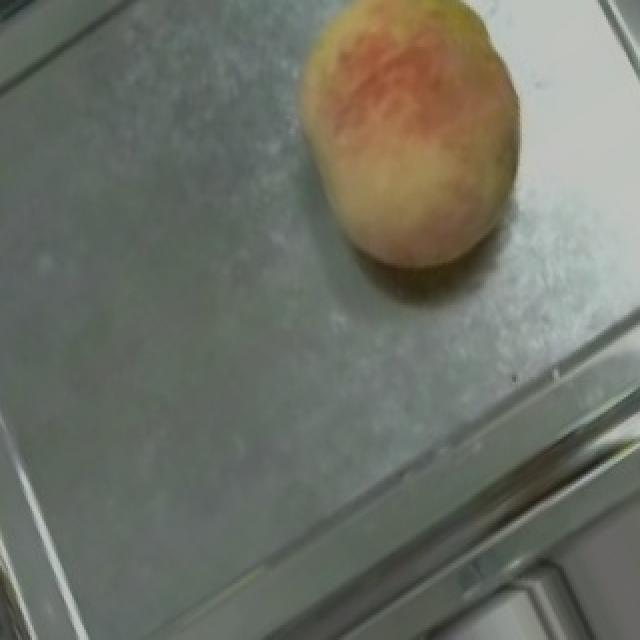Fruit: (252, 0, 566, 308)
